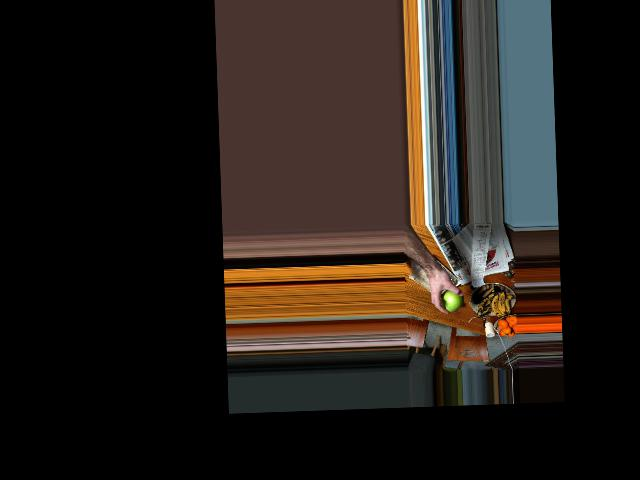apple: (440, 288, 464, 311)
